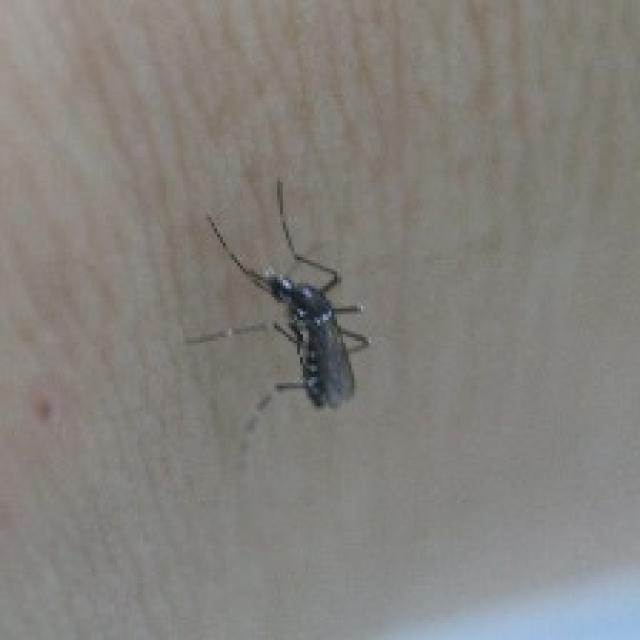aedes: (183, 175, 368, 412)
